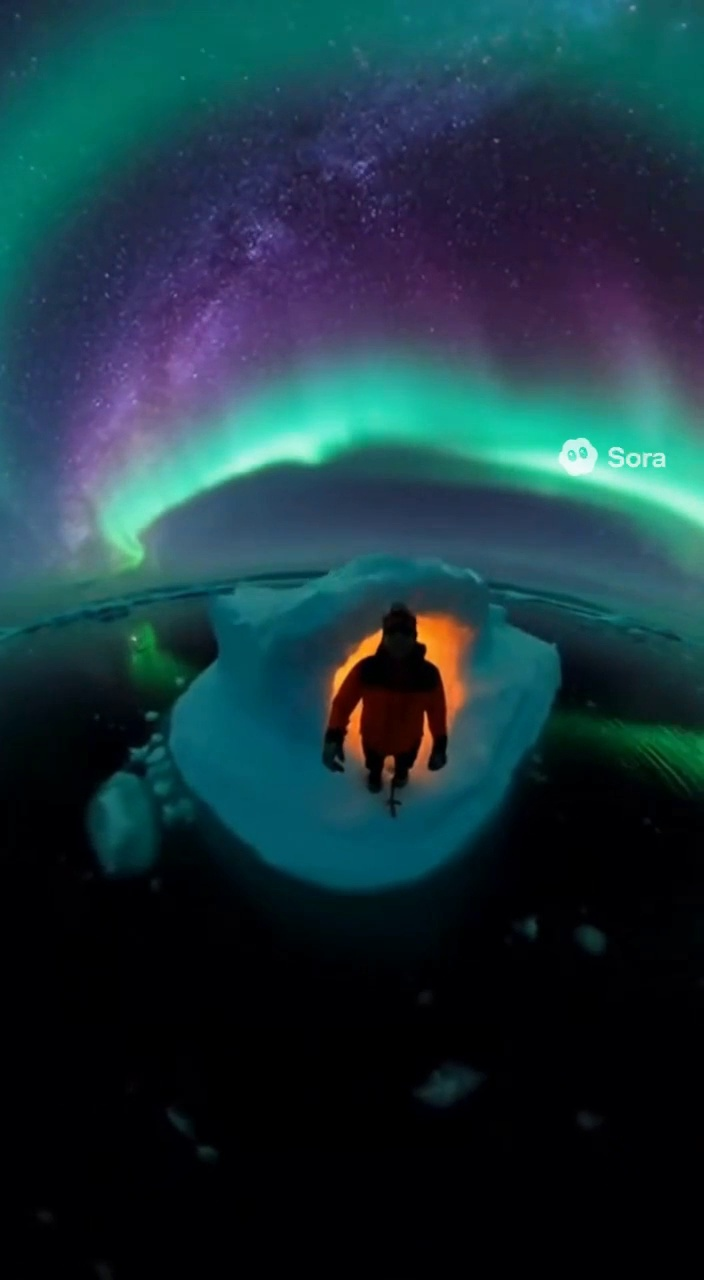watermark: (476, 434, 578, 483)
